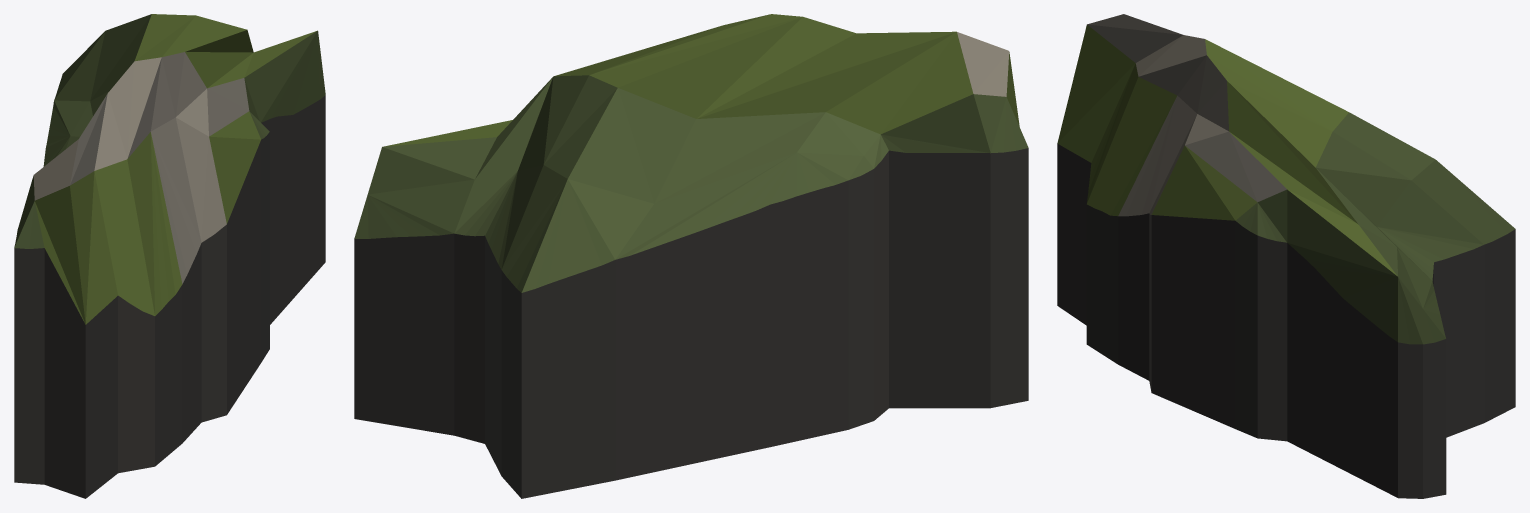
Rendered from cliff_sections_crown.glb.
3 views of the same model, side by side, from view 1: azimuth 30°, elevation 25°; view 2: azimuth 150°, elevation 25°; view 3: azimuth 270°, elevation 25° (orthographic). The views are drawn at different scales.
Visible parts, largest first — view 1: Front columns study; view 2: Front columns study; view 3: Front columns study.
Boxes of the visible parts, x1,y1,x2,y2 form: Front columns study: (14, 14, 325, 498); Front columns study: (354, 14, 1028, 498); Front columns study: (1057, 14, 1515, 498).
Size of the model in its own units: 134 by 97 by 124.
